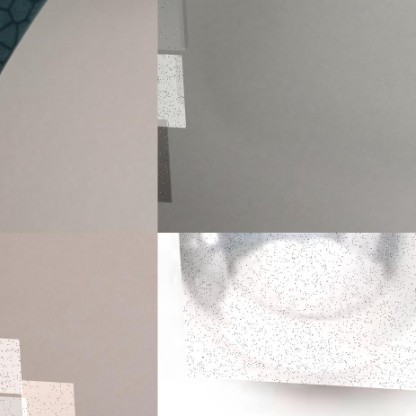ironball: (176, 232, 415, 387), (16, 377, 72, 415), (157, 49, 183, 126), (0, 333, 19, 391)
